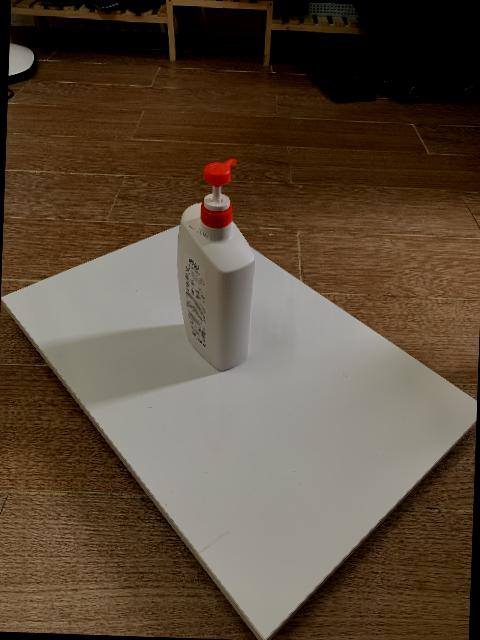life-buoy: (177, 159, 255, 373)
